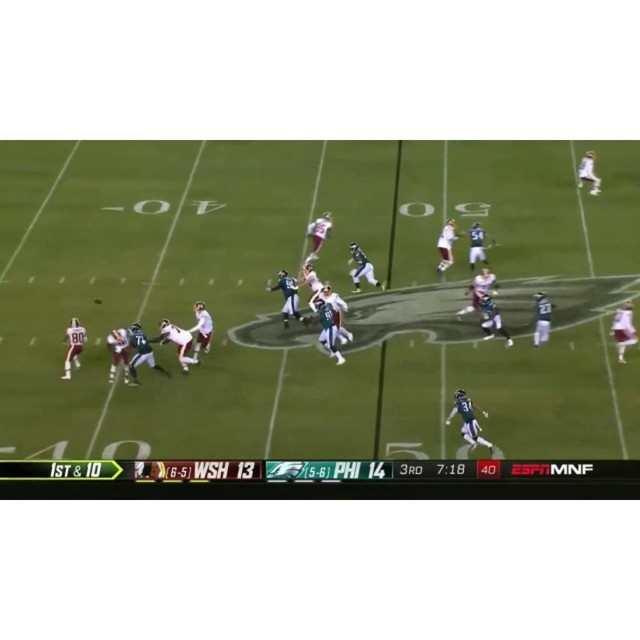american-football-player: (446, 388, 494, 456), (126, 323, 170, 385), (265, 270, 306, 332), (155, 319, 200, 375), (310, 297, 346, 366), (318, 285, 355, 345), (456, 268, 497, 322), (608, 301, 640, 365), (478, 292, 514, 348), (348, 241, 383, 292), (60, 318, 87, 380), (106, 326, 134, 385), (304, 211, 334, 263), (465, 221, 496, 271), (529, 291, 555, 349), (435, 218, 460, 275), (190, 302, 215, 357), (299, 263, 327, 311), (576, 150, 603, 195)
